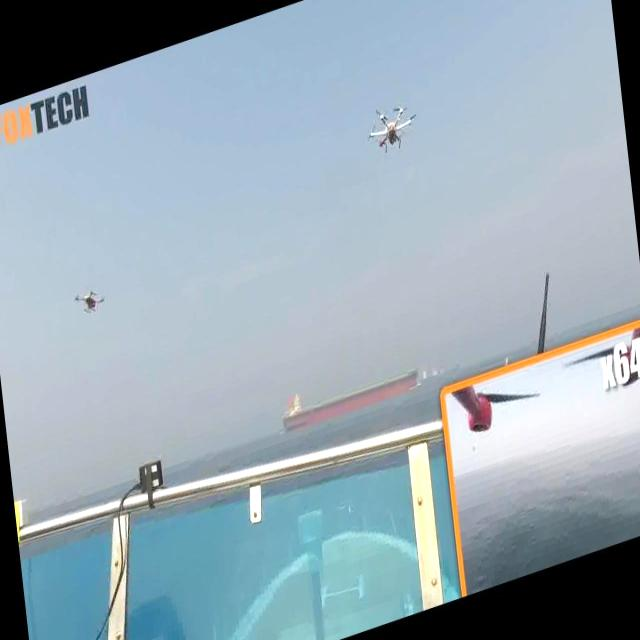drone: (362, 94, 420, 164), (71, 279, 108, 323)
